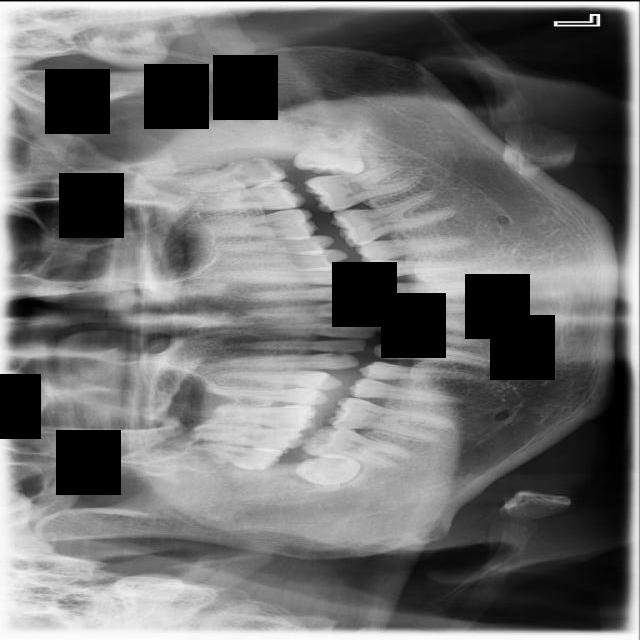3M ESPE Implant: (186, 436, 283, 474)
73: (568, 19, 572, 26)
BioHorizons Implant: (180, 177, 309, 218)
BioLife Implant: (174, 151, 289, 199)
Biomet 3i Implant: (293, 122, 367, 177)
Blue Sky Bio Implant: (303, 159, 424, 215)
Caries: (190, 418, 307, 454)
Implant: (301, 420, 414, 468)
Keystone Dental Implant: (296, 452, 361, 485)
